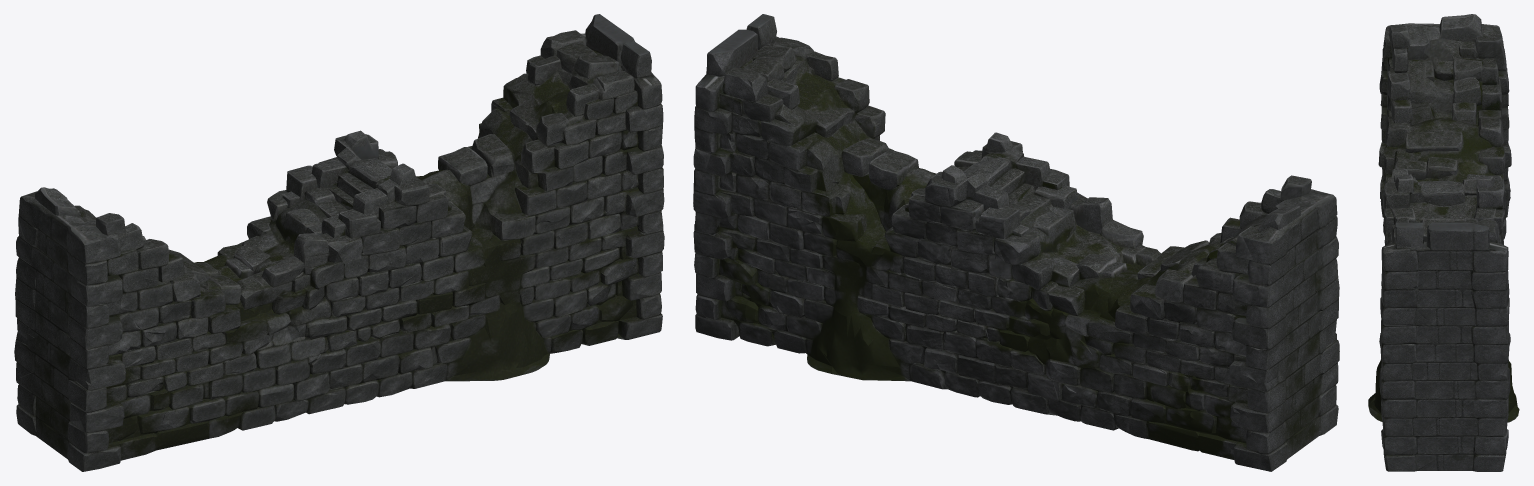
Rendered from wall_ruined.glb.
The picture shows the model from 3 angles, left to right: view 1: azimuth 30°, elevation 25°; view 2: azimuth 150°, elevation 25°; view 3: azimuth 270°, elevation 25°; orthographic projection. The views are drawn at different scales.
Visible parts, largest first — view 1: Mesh_0; view 2: Mesh_0; view 3: Mesh_0.
Boxes of the visible parts, left/top/right/bottom form: Mesh_0: left=14, top=14, right=664, bottom=471; Mesh_0: left=693, top=14, right=1339, bottom=471; Mesh_0: left=1368, top=14, right=1519, bottom=471.
Bounding box in the file's own units: 1.9 × 0.87 × 0.4914.
1 material, 1 textured.
